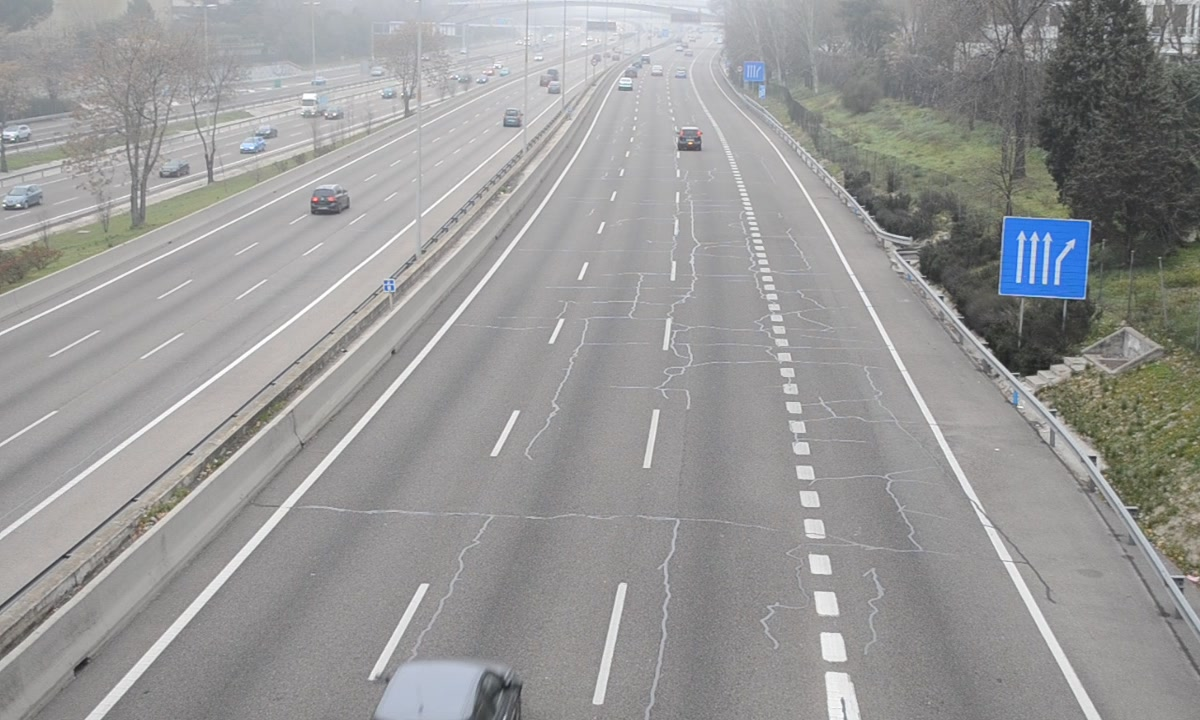car: (676, 126, 703, 152)
